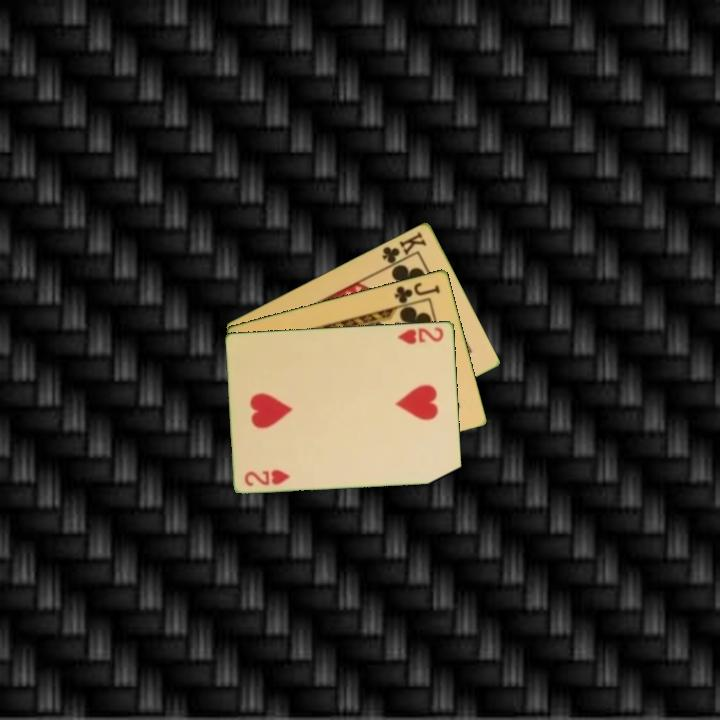2h: (394, 323, 446, 347), (241, 466, 293, 488)
Jc: (391, 278, 443, 306)
Kc: (378, 228, 430, 270)
